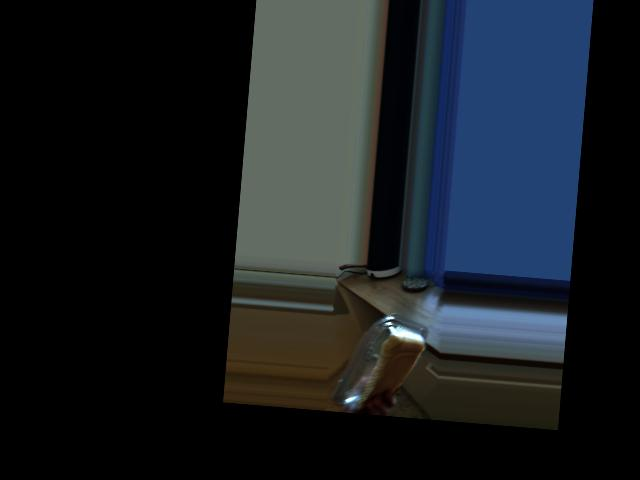cheese: (349, 320, 416, 380)
